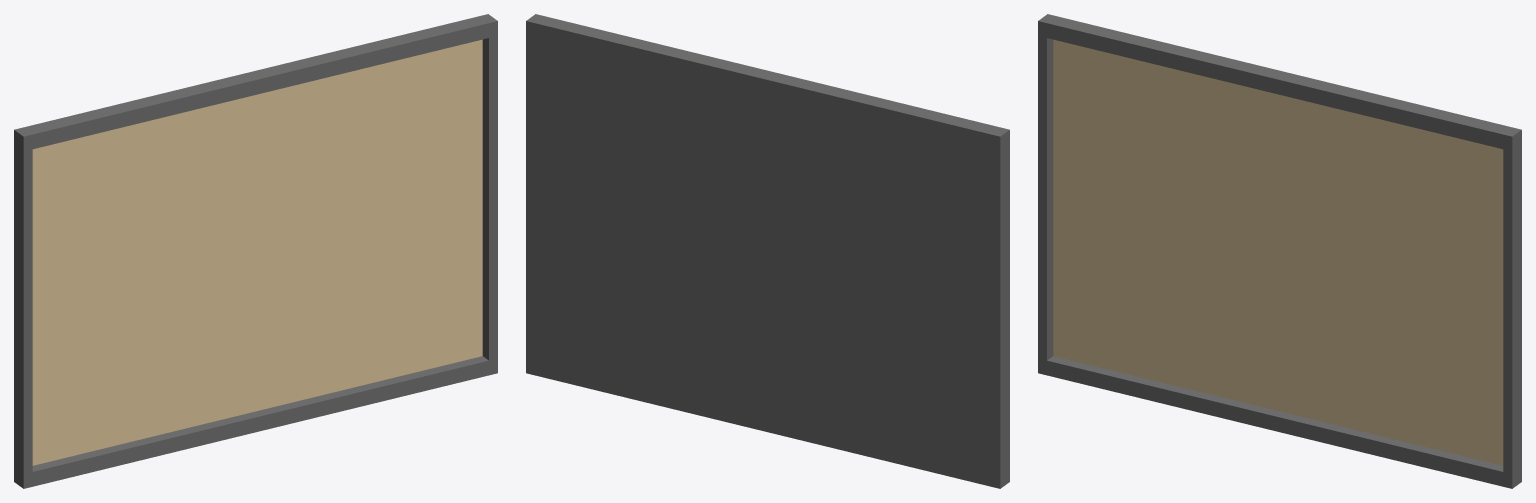
The model's file is pinboard.fbx.
3 renders of one model, left to right at view 1: azimuth 30°, elevation 25°; view 2: azimuth 150°, elevation 25°; view 3: azimuth 330°, elevation 25°, orthographic.
Visible parts, largest first — view 1: CLIPBOARD2; view 2: CLIPBOARD2; view 3: CLIPBOARD2.
Part boxes in pixels (x1,y1,x2,y2): CLIPBOARD2: [14, 14, 497, 488]; CLIPBOARD2: [526, 14, 1009, 488]; CLIPBOARD2: [1038, 14, 1521, 488].
Size of the model in its own units: 4.43 by 3.15 by 0.1556.
